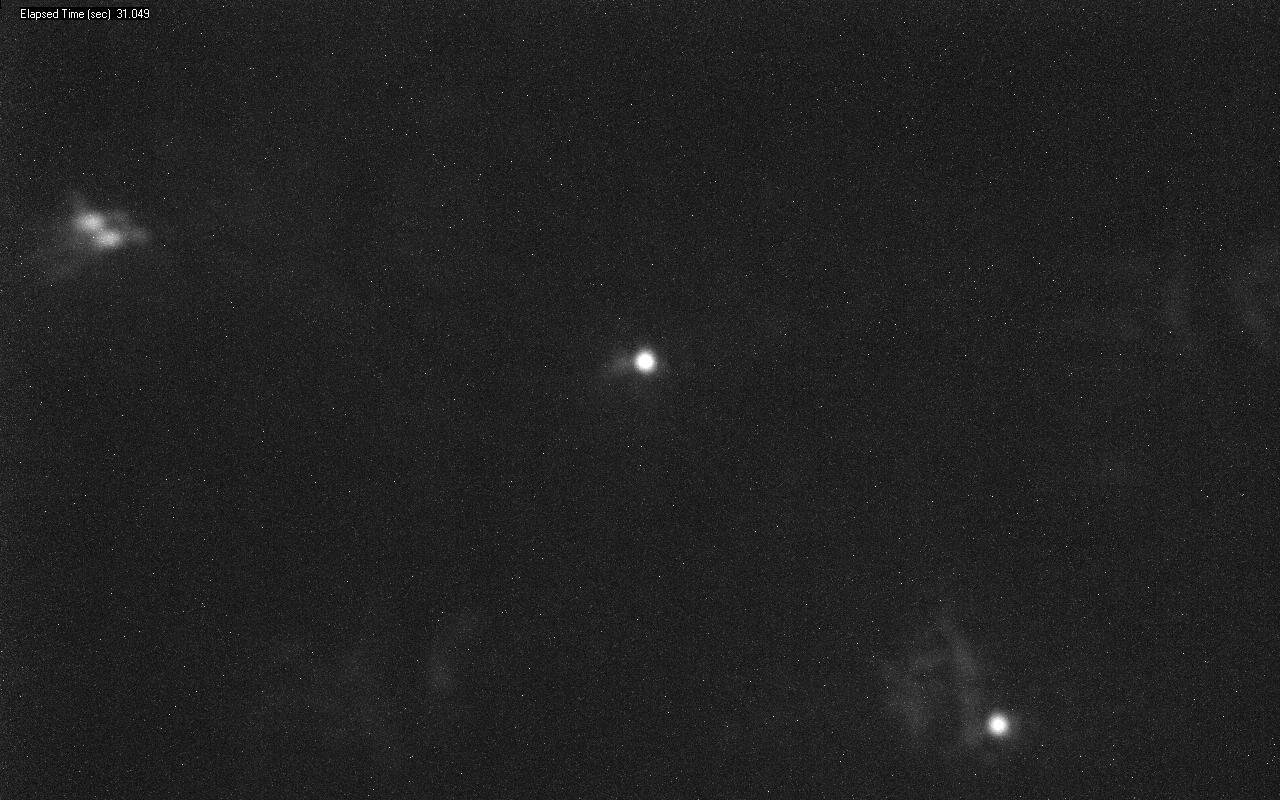Bead: (633, 349, 656, 374), (988, 713, 1008, 734)
